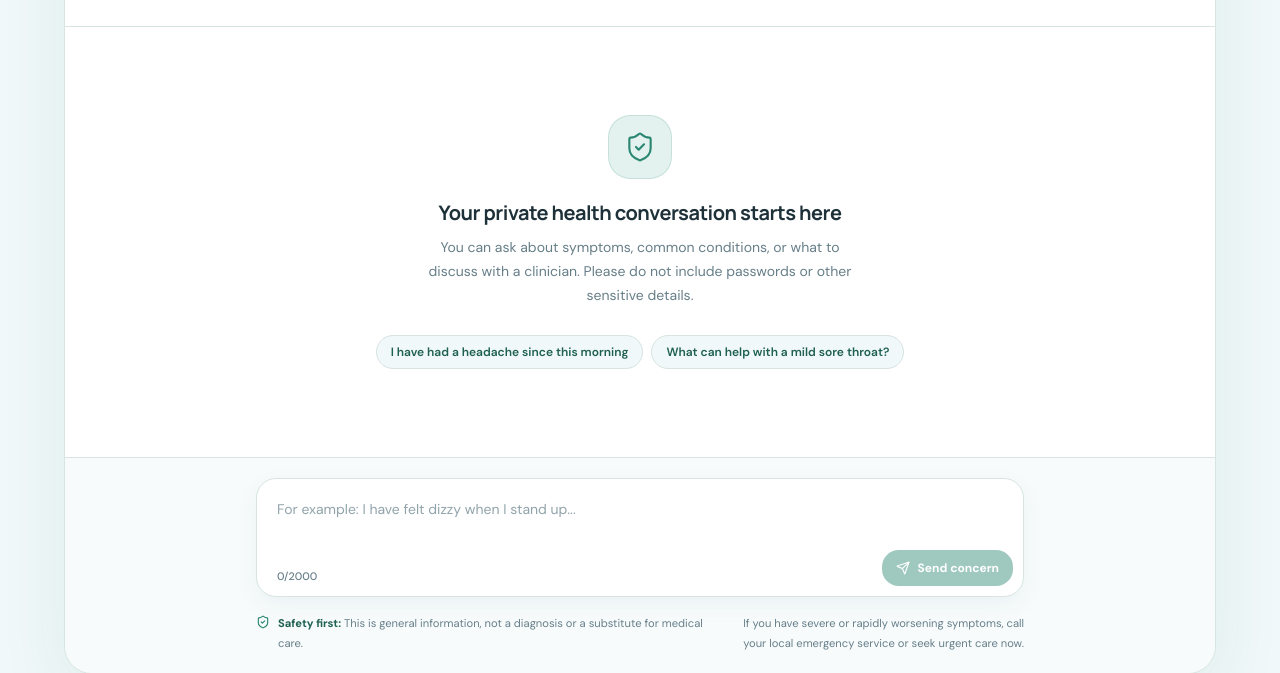
Test: new health assistant features › keeps bilingual chat responses in the session and switches existing replies
The image size is (1280, 673).
(page scrolled)
Type "I have a mild fever" into the text box with test id "input-health-concern" at coordinates (640, 534), box [265, 487, 1015, 581]
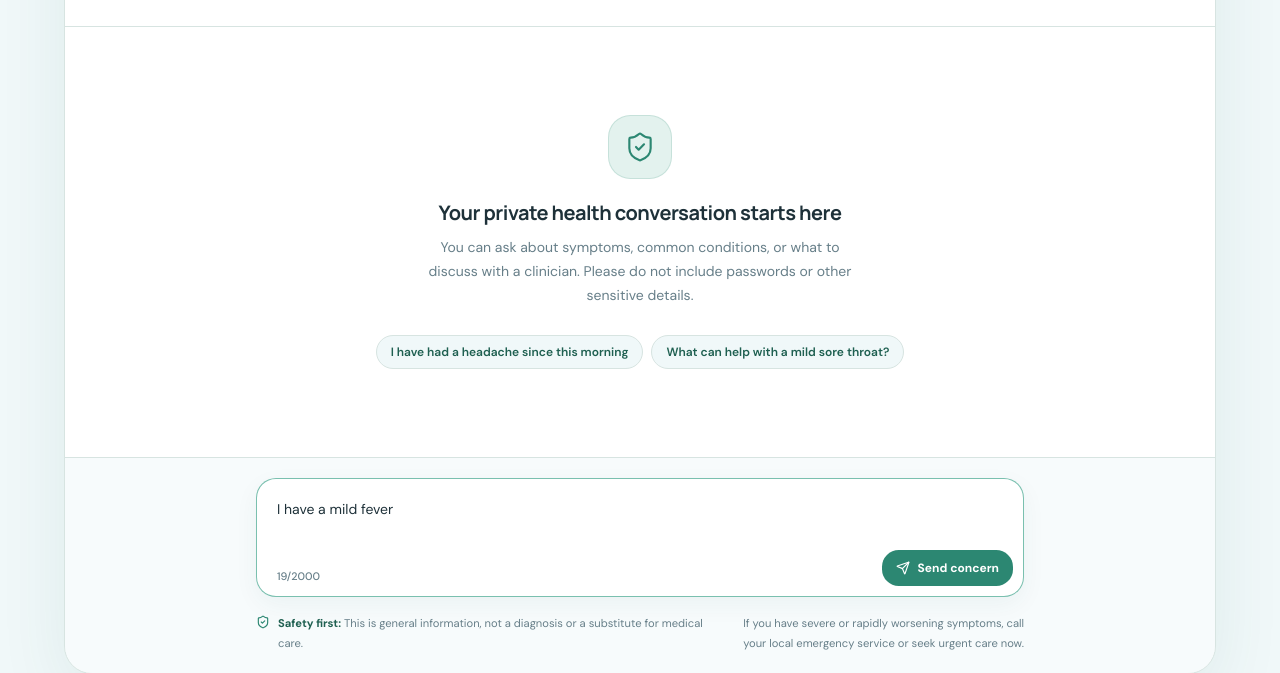
Click the button with test id "button-send-chat" at coordinates (947, 568), box [882, 550, 1013, 586]
(page scrolled)
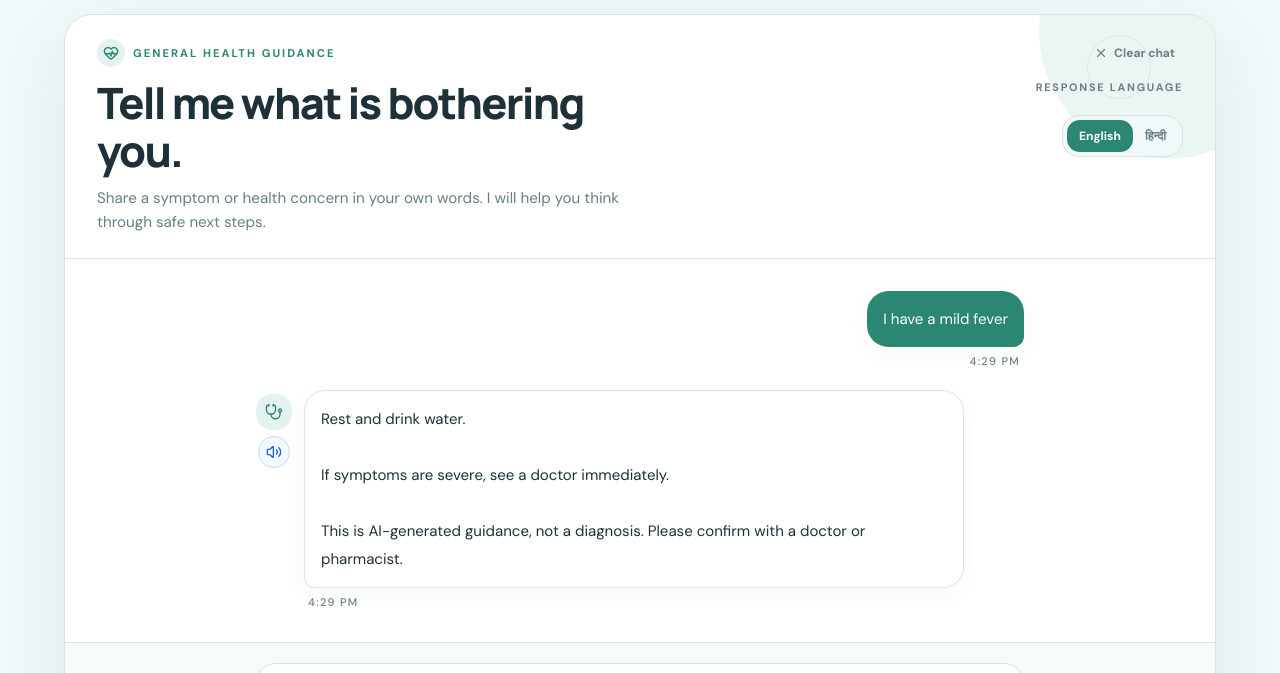
Now the text "Rest and drink water" is shown, box [321, 409, 869, 569]
Click the button with test id "button-language-hi" at coordinates (1155, 136), box [1133, 120, 1178, 152]
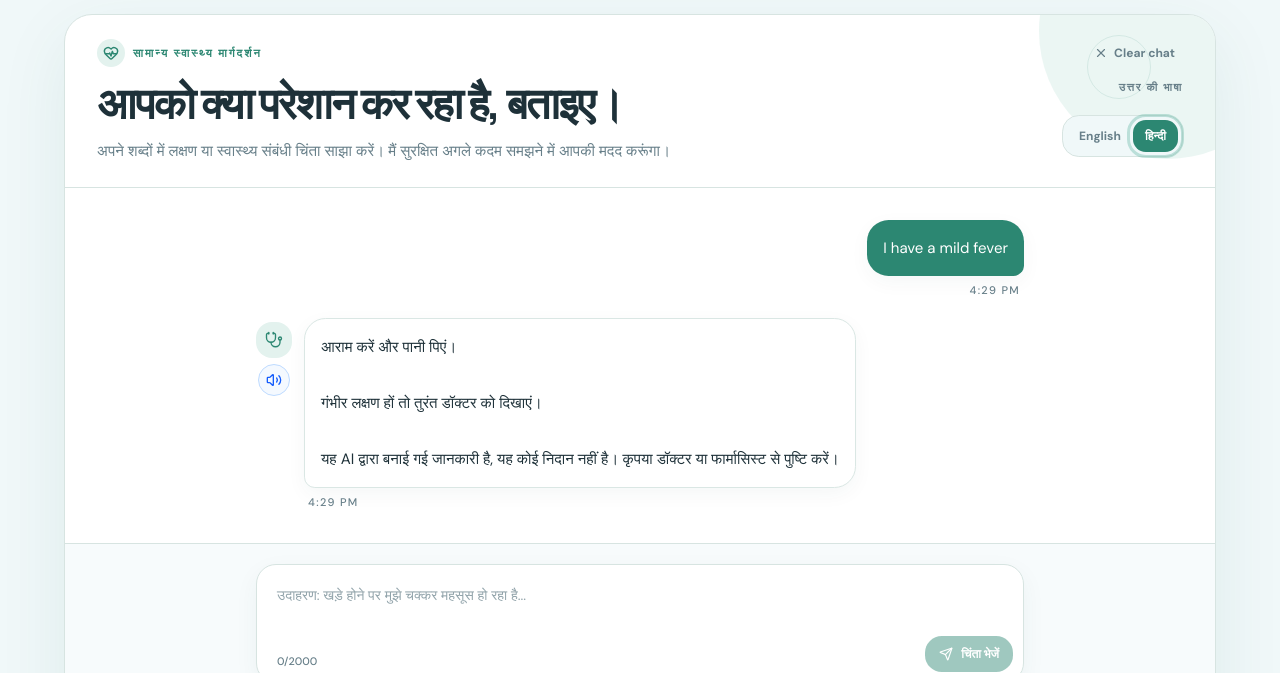
Now the text "आराम करें और पानी पिएं" is shown, box [321, 337, 839, 469]
